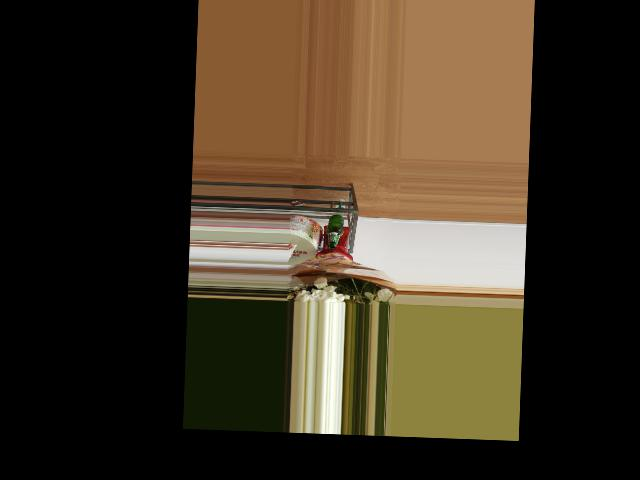beer: (325, 213, 344, 248)
